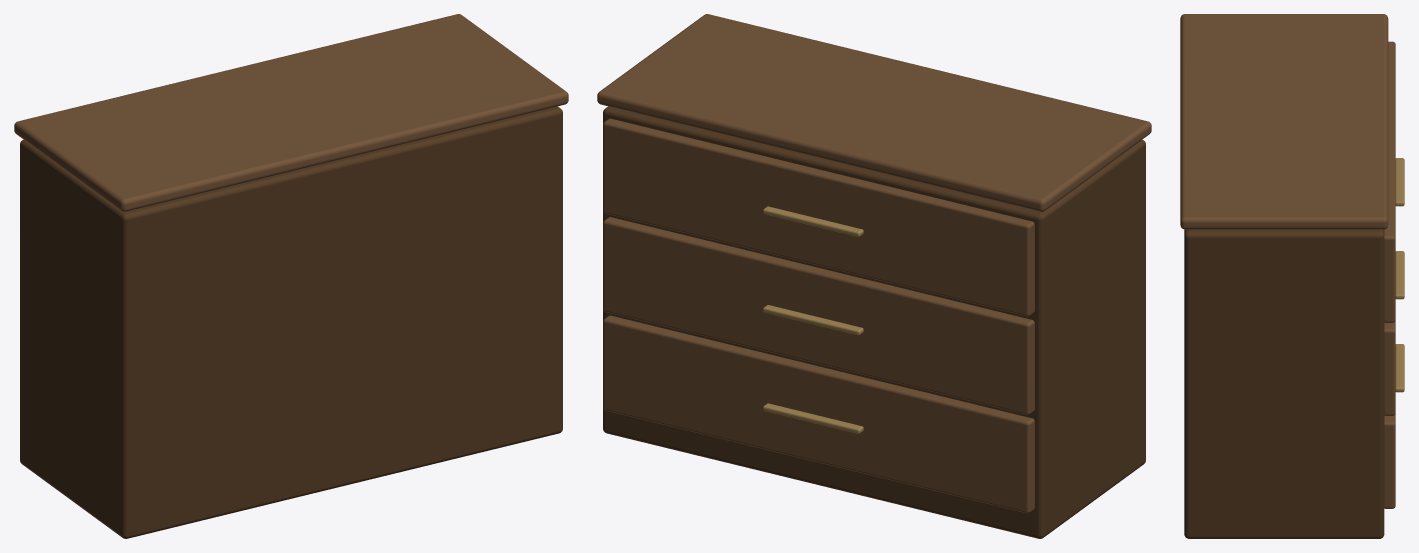
Rendered from dresser.glb.
3 views of the same model, side by side, from view 1: azimuth 30°, elevation 25°; view 2: azimuth 150°, elevation 25°; view 3: azimuth 270°, elevation 25° (orthographic). The views are drawn at different scales.
Parts seen in each view (by area): view 1: Carcass, Oak top; view 2: Carcass, Oak top, Drawer front.001, Drawer front, Drawer front.002, Brass handle, Brass handle.001, Brass handle.002; view 3: Carcass, Oak top, Drawer front.002, Drawer front, Drawer front.001, Brass handle, Brass handle.001, Brass handle.002.
Part boxes in pixels (<box>): Carcass: <box>20,106,562,538</box>; Oak top: <box>14,14,568,211</box>; Carcass: <box>603,106,1145,538</box>; Oak top: <box>597,14,1151,211</box>; Drawer front.001: <box>603,217,1034,414</box>; Drawer front: <box>603,315,1034,513</box>; Drawer front.002: <box>603,118,1034,316</box>; Brass handle: <box>763,403,863,433</box>; Brass handle.001: <box>763,305,863,335</box>; Brass handle.002: <box>763,206,863,236</box>; Carcass: <box>1184,229,1384,538</box>; Oak top: <box>1180,14,1388,229</box>; Drawer front.002: <box>1384,41,1395,322</box>; Drawer front: <box>1384,414,1395,508</box>; Drawer front.001: <box>1384,321,1395,415</box>; Brass handle: <box>1395,344,1404,392</box>; Brass handle.001: <box>1395,251,1404,299</box>; Brass handle.002: <box>1395,158,1404,206</box>.
Size of the model in its own units: 1.27 by 0.9275 by 0.5825.
